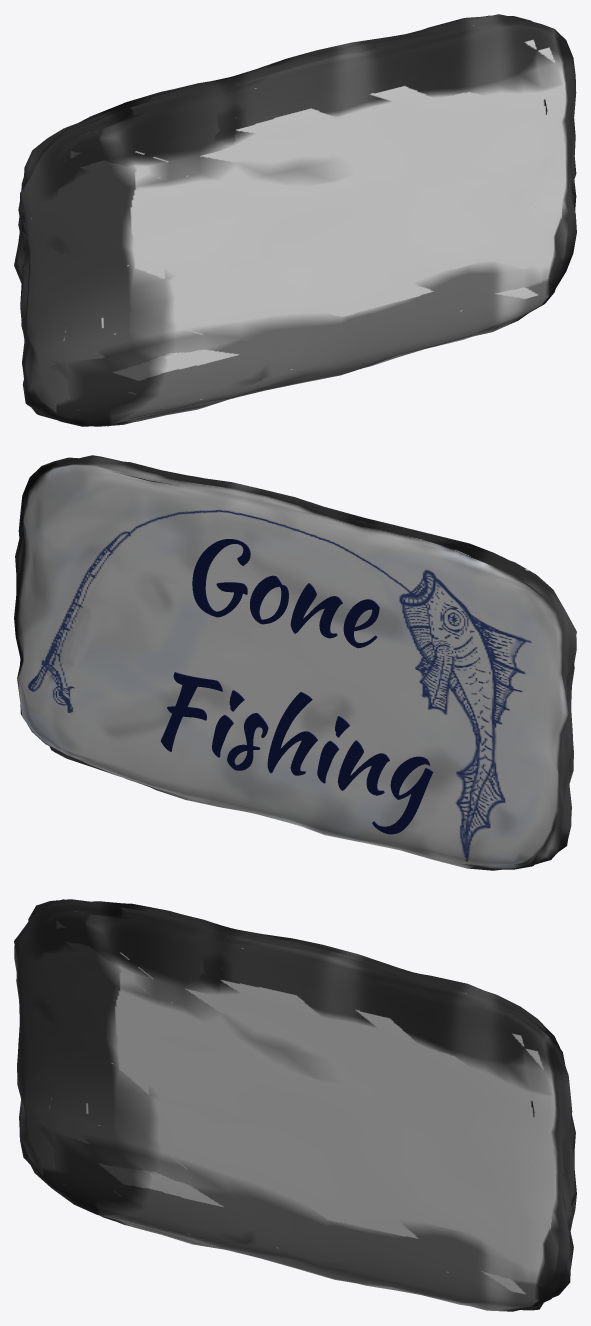
File: sign.obj
3 views of the same model, one above another, from view 1: azimuth 30°, elevation 25°; view 2: azimuth 150°, elevation 25°; view 3: azimuth 330°, elevation 25° (orthographic).
Parts seen in each view (by area): view 1: Cube.003_Cube.004; view 2: Cube.003_Cube.004; view 3: Cube.003_Cube.004.
Boxes of the visible parts, box(x1,y1,x2,y2) form: Cube.003_Cube.004: box(14, 14, 576, 426); Cube.003_Cube.004: box(14, 455, 576, 870); Cube.003_Cube.004: box(14, 899, 576, 1311).
Size of the model in its own units: 2.56 by 1.43 by 0.1224.
